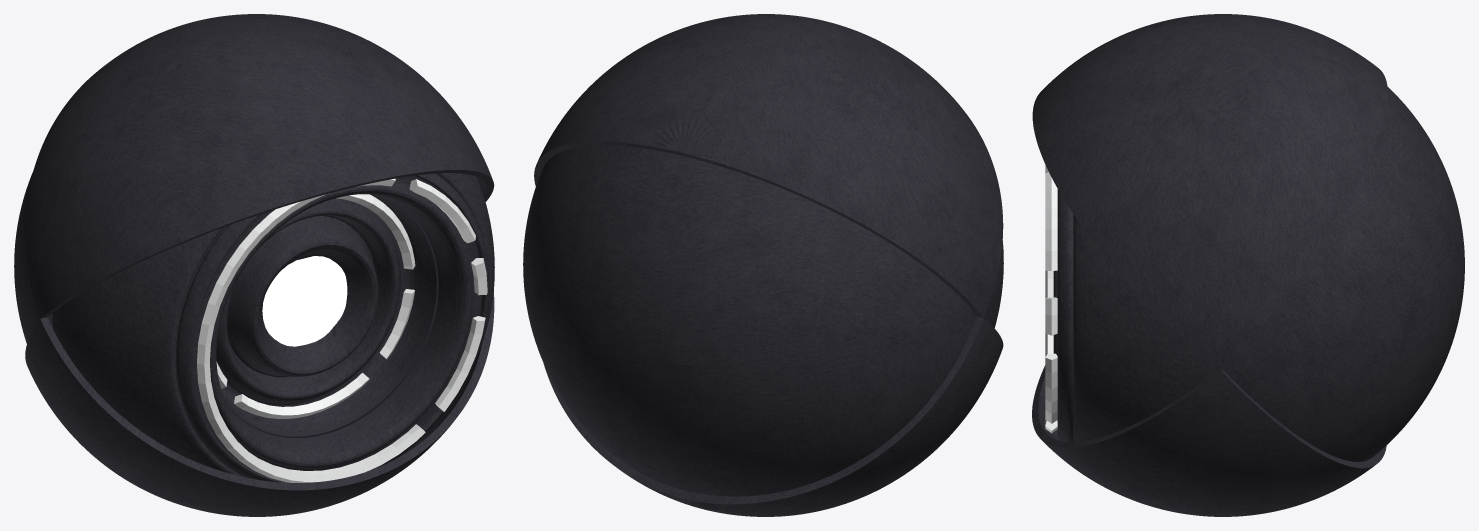
Rendered from Eye-1K.glb.
The picture shows the model from 3 angles, left to right: view 1: azimuth 30°, elevation 25°; view 2: azimuth 150°, elevation 25°; view 3: azimuth 270°, elevation 25°; orthographic projection.
Visible parts, largest first — view 1: Pop_Inf, Eye_Int, Pop_Sup, Anneaux EXT, Iris, Anneaux INT, Sphere; view 2: Sphere, Pop_Inf, Pop_Sup, Eye_Int; view 3: Pop_Inf, Sphere, Pop_Sup, Eye_Int, Anneaux EXT.
Boxes of the visible parts, x1=… form: Pop_Inf: x1=25, y1=14, x2=494, y2=318; Eye_Int: x1=52, y1=173, x2=494, y2=482; Pop_Sup: x1=25, y1=290, x2=494, y2=516; Anneaux EXT: x1=197, y1=178, x2=487, y2=482; Iris: x1=262, y1=256, x2=347, y2=346; Anneaux INT: x1=216, y1=194, x2=415, y2=418; Sphere: x1=14, y1=171, x2=52, y2=343; Sphere: x1=523, y1=145, x2=976, y2=496; Pop_Inf: x1=534, y1=14, x2=1003, y2=317; Pop_Sup: x1=543, y1=316, x2=1003, y2=516; Eye_Int: x1=983, y1=241, x2=1003, y2=327; Pop_Inf: x1=1032, y1=14, x2=1387, y2=371; Sphere: x1=1223, y1=87, x2=1464, y2=461; Pop_Sup: x1=1032, y1=365, x2=1386, y2=516; Eye_Int: x1=1053, y1=189, x2=1218, y2=441; Anneaux EXT: x1=1045, y1=165, x2=1057, y2=433.
Size of the model in its own units: 2.09 by 2.1 by 1.81.
Materials: 4 (3 with a texture image).
